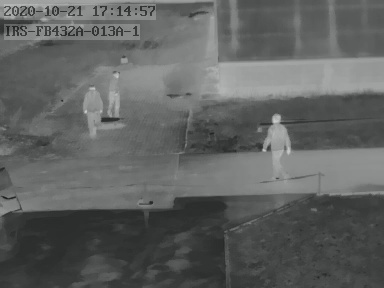person: (263, 113, 293, 183), (82, 82, 102, 138), (104, 70, 123, 121)
